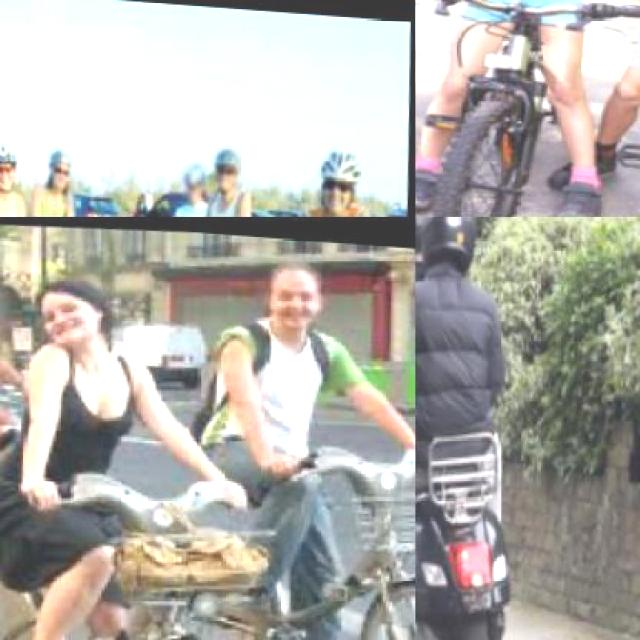With Helmet: (316, 130, 366, 212), (422, 217, 482, 266), (41, 131, 84, 194), (210, 134, 247, 189), (0, 132, 25, 192), (182, 152, 212, 200), (416, 217, 442, 271)
Without Helmet: (27, 263, 113, 348), (254, 246, 334, 334)
